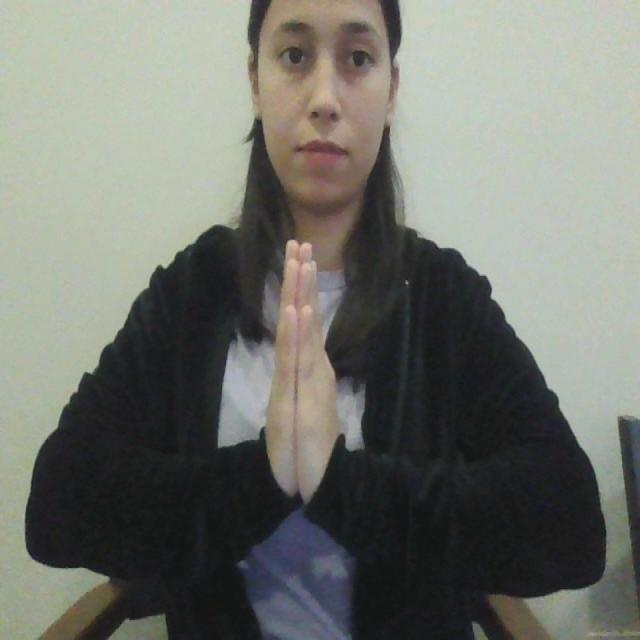Ozur-Dilemek: (256, 233, 346, 523)
